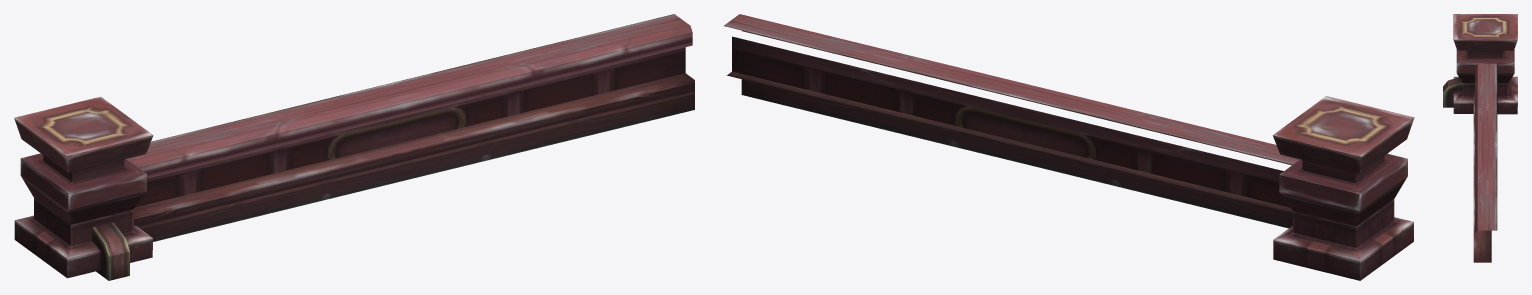
File: baobian_15.FBX
3 views of the same model, side by side, from view 1: azimuth 30°, elevation 25°; view 2: azimuth 150°, elevation 25°; view 3: azimuth 270°, elevation 25° (orthographic). The views are drawn at different scales.
Visible parts, largest first — view 1: Object004; view 2: Object004; view 3: Object004.
Boxes of the visible parts, x1=… form: Object004: x1=14, y1=14, x2=694, y2=280; Object004: x1=724, y1=14, x2=1414, y2=280; Object004: x1=1443, y1=14, x2=1517, y2=262.
Bounding box in the file's own units: 533 × 99.92 × 87.81.
